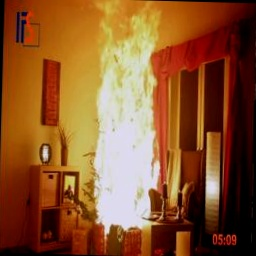fire: (66, 0, 186, 243)
